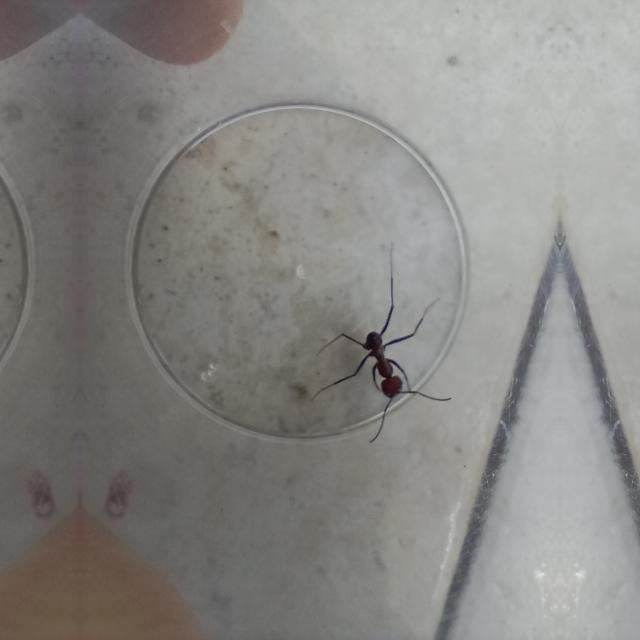Cataglyphis: (337, 301, 429, 431)
